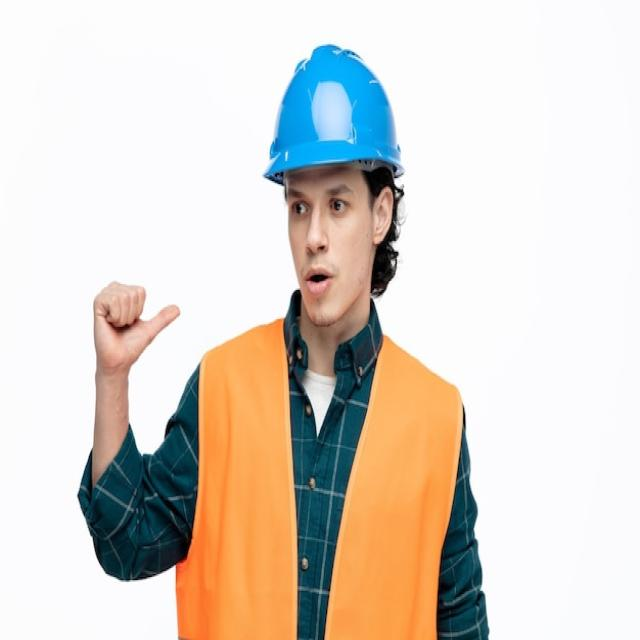helmet: (258, 39, 407, 190)
no-goggles: (262, 172, 388, 236)
vest: (197, 334, 465, 640)
